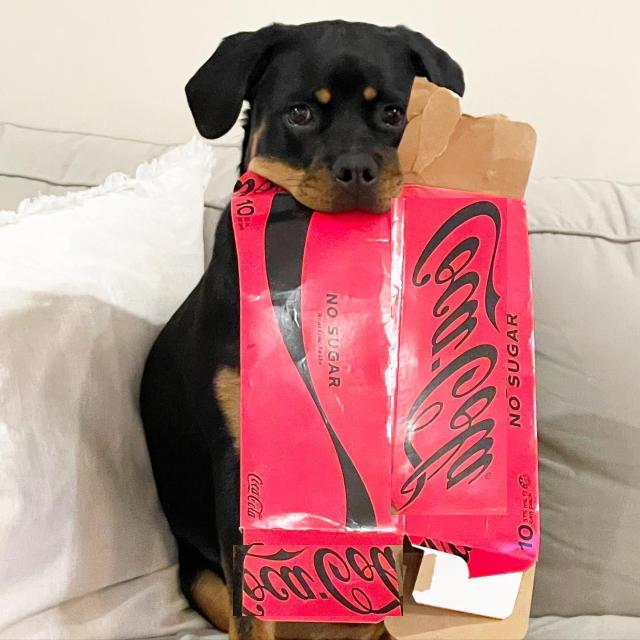coca-cola: (391, 198, 507, 515), (234, 545, 404, 616)
